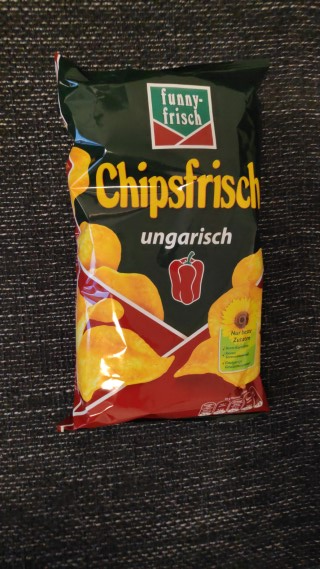chipsfrisch: (50, 49, 276, 436)
